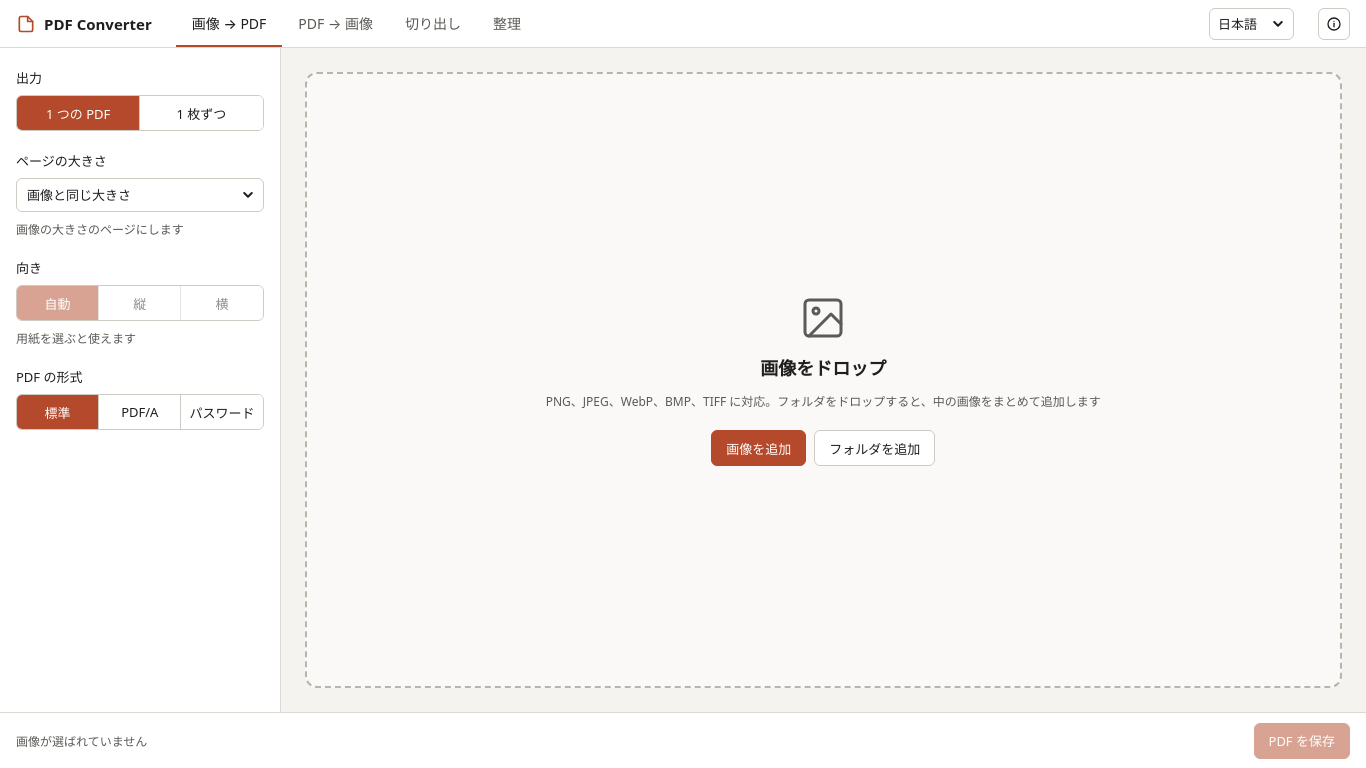
Scenario: removing all the PDFs › keeps everything when the question is cancelled
Step 1. Click the tab "整理" → (507, 24), box [477,0,537,47]
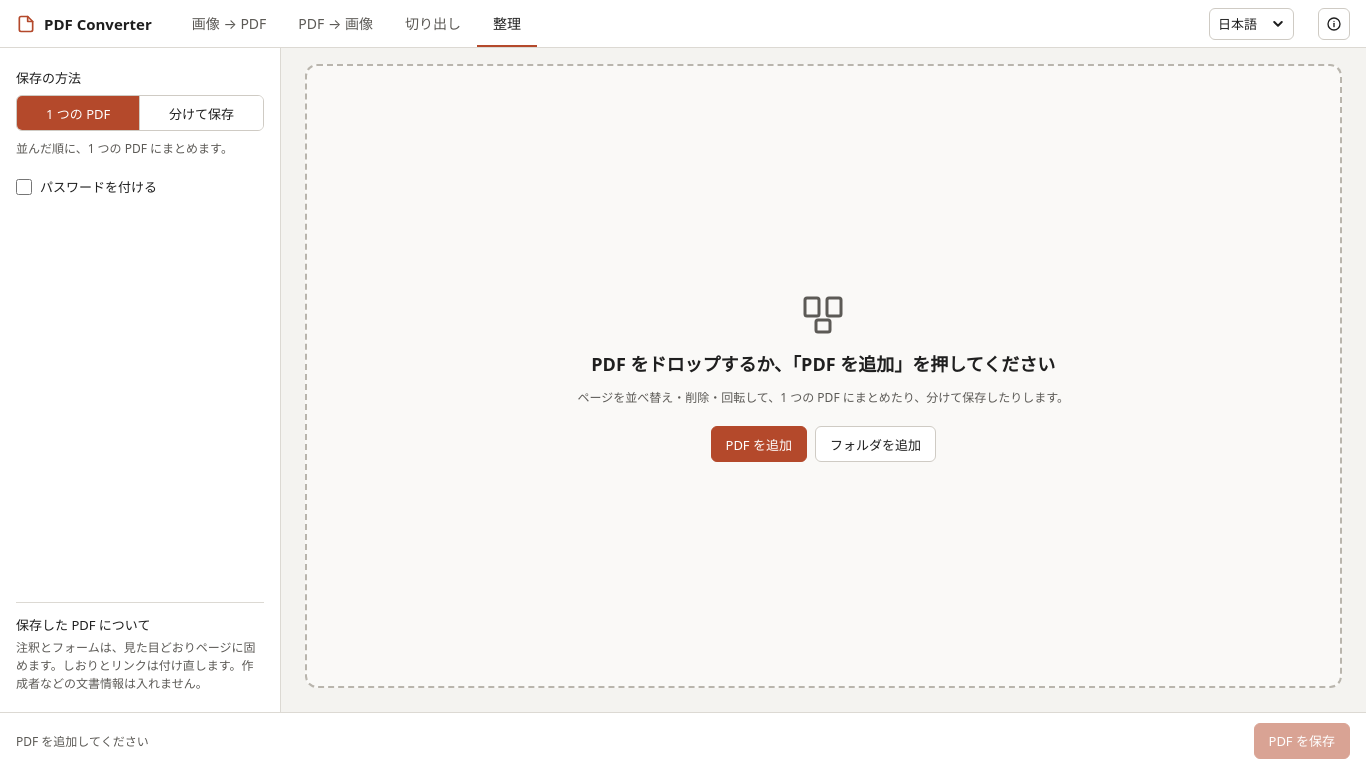
Step 2. Click the button "PDF を追加" → (759, 444), box [710,426,807,462]
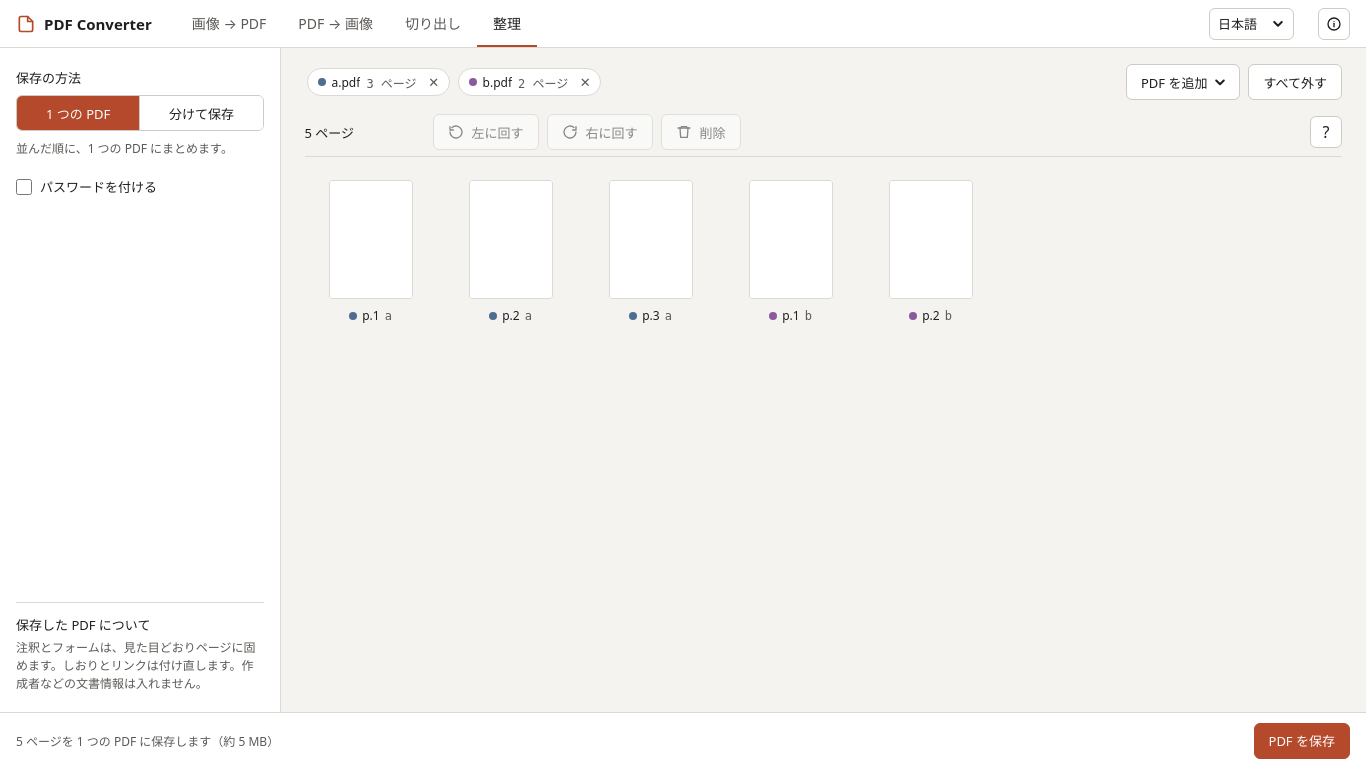
Step 3. Press the mouse on the option "p.1 a" → (370, 252), box [328,180,412,324]
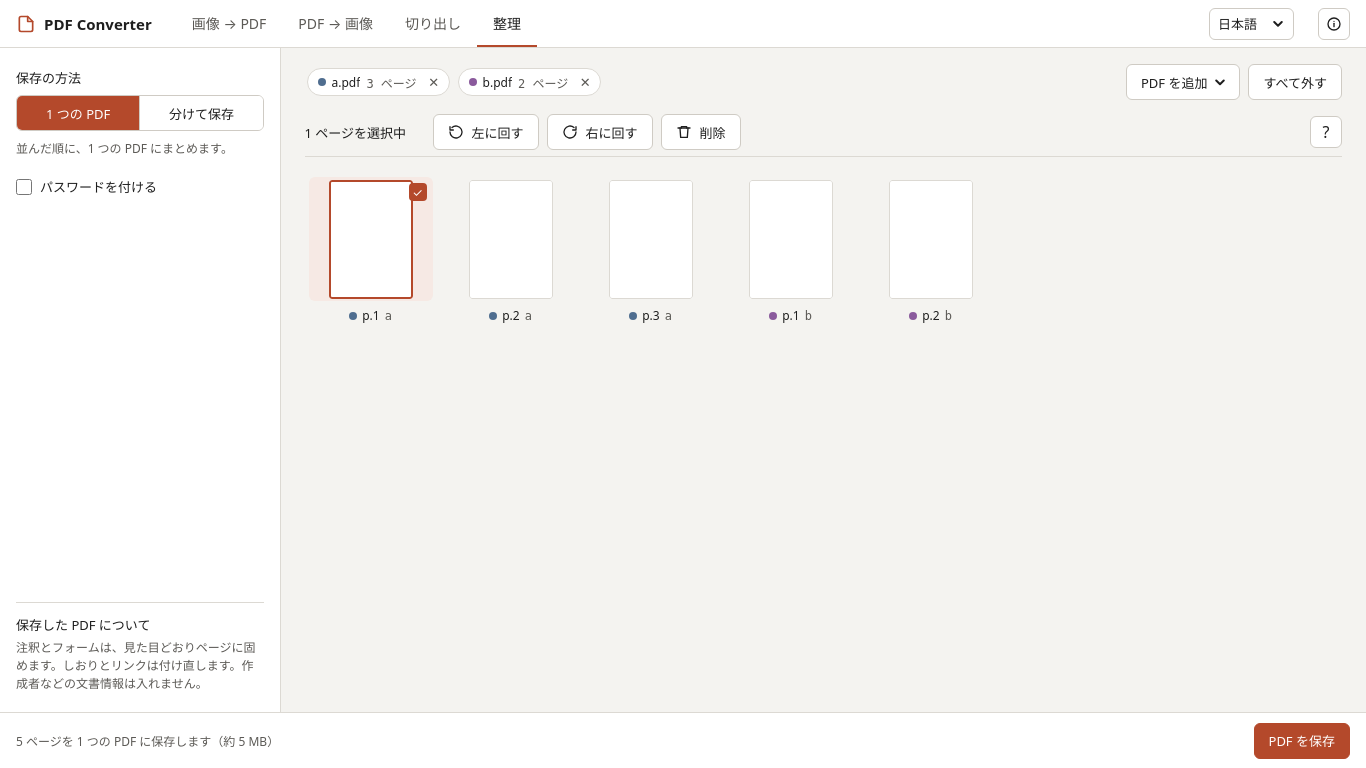
Step 4. Click the button "削除" → (701, 132), box [661,114,741,150]
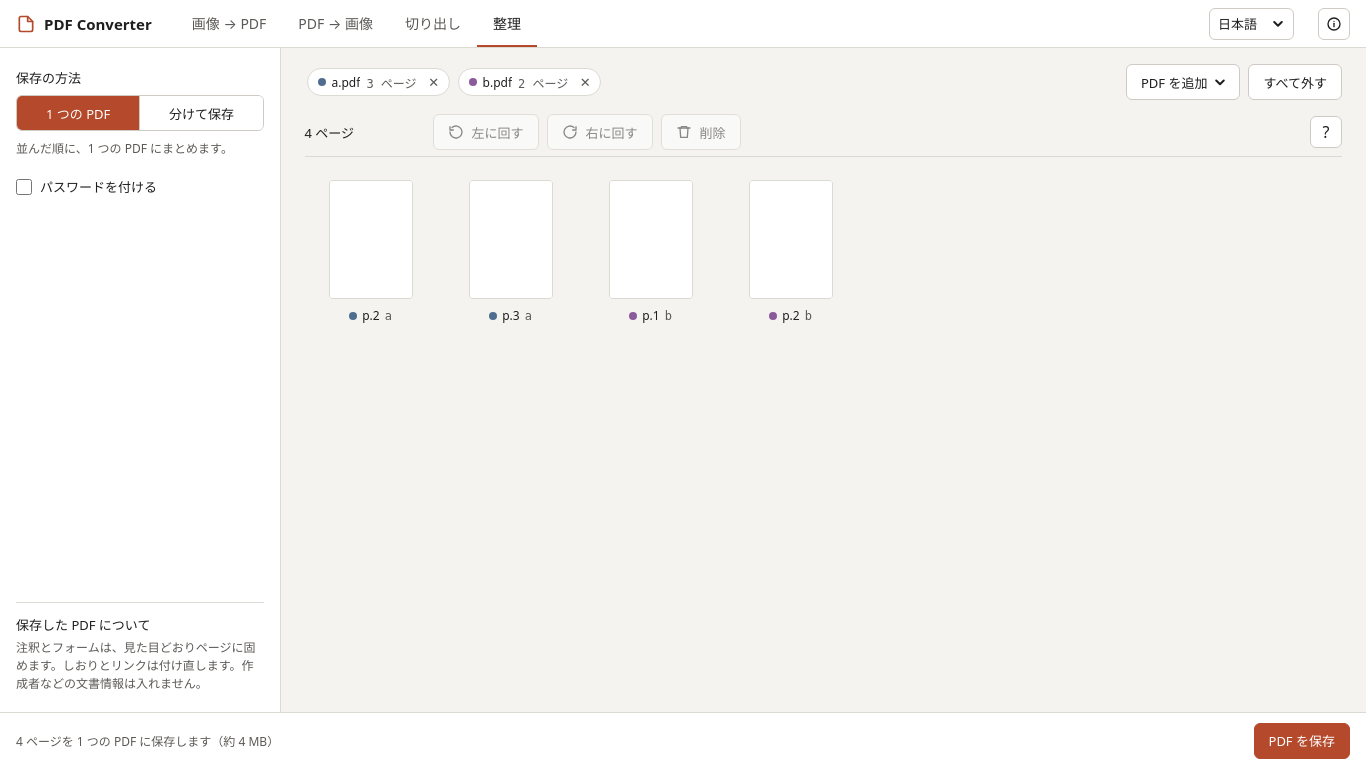
Step 5. Click the button "すべて外す" → (1295, 82), box [1248,64,1342,100]
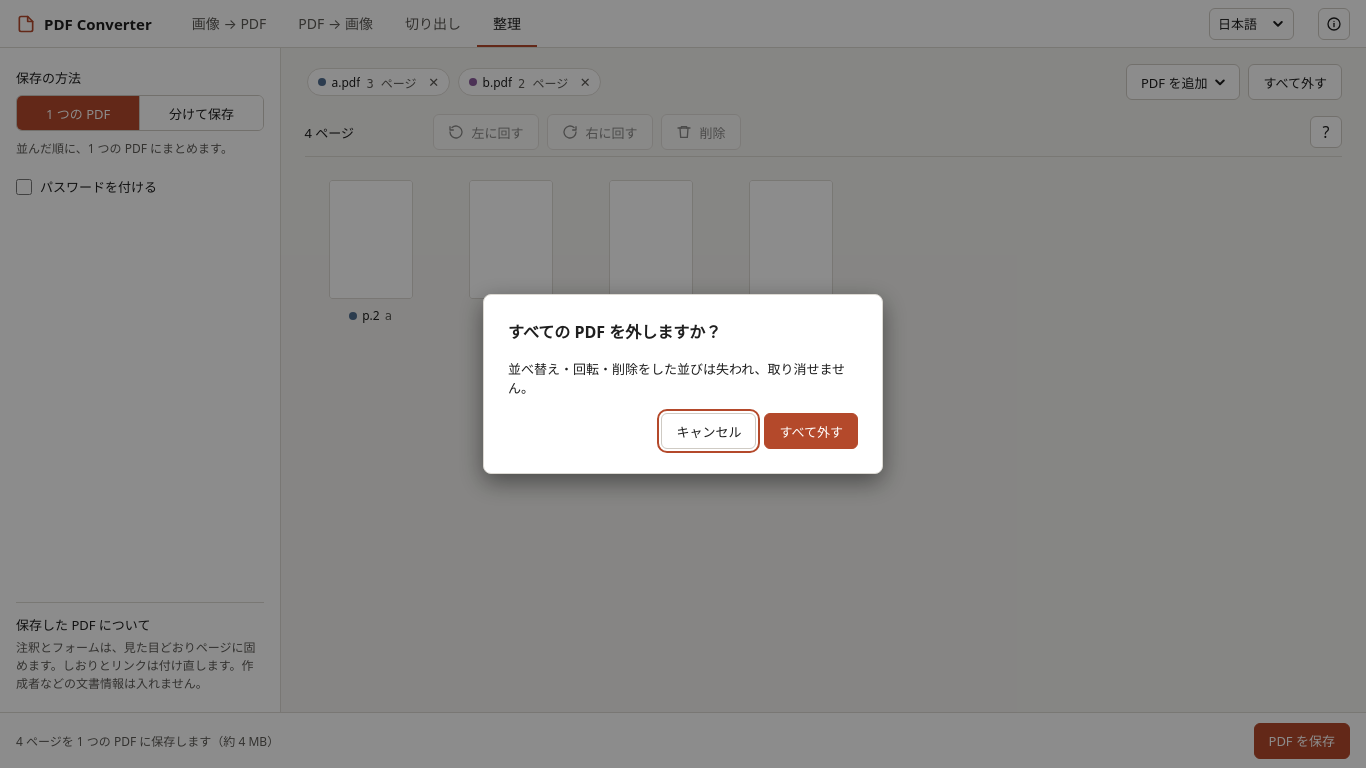
Step 6. Click the button "キャンセル" → (709, 431), box [661,413,756,449]
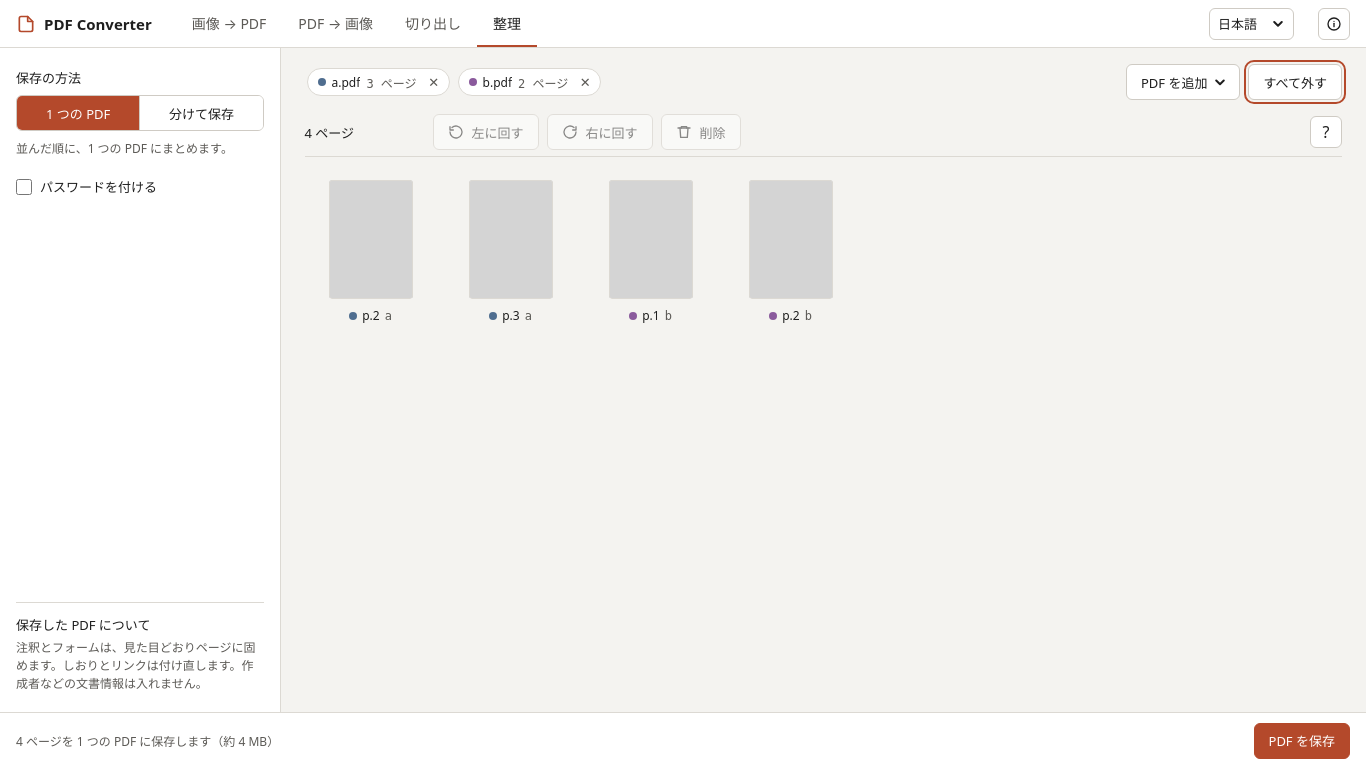
Check: the dialog is gone
